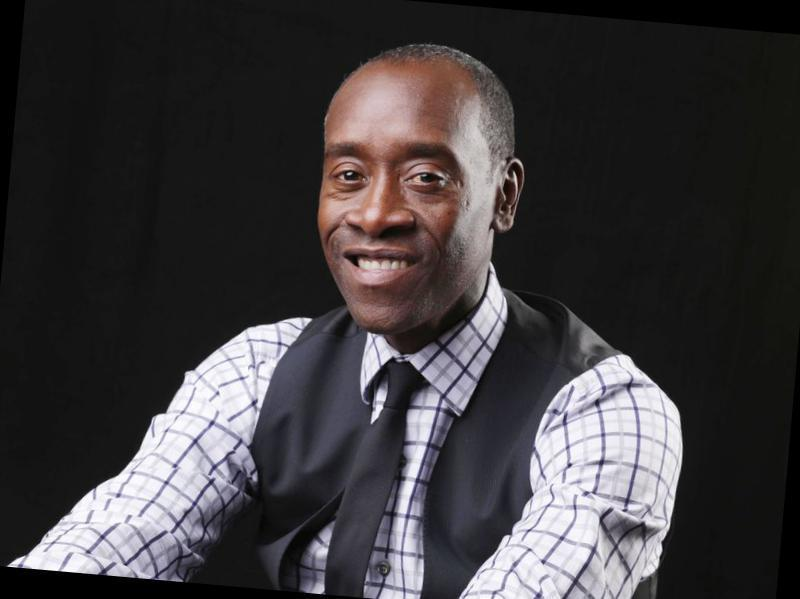Sober: (322, 84, 480, 331)
